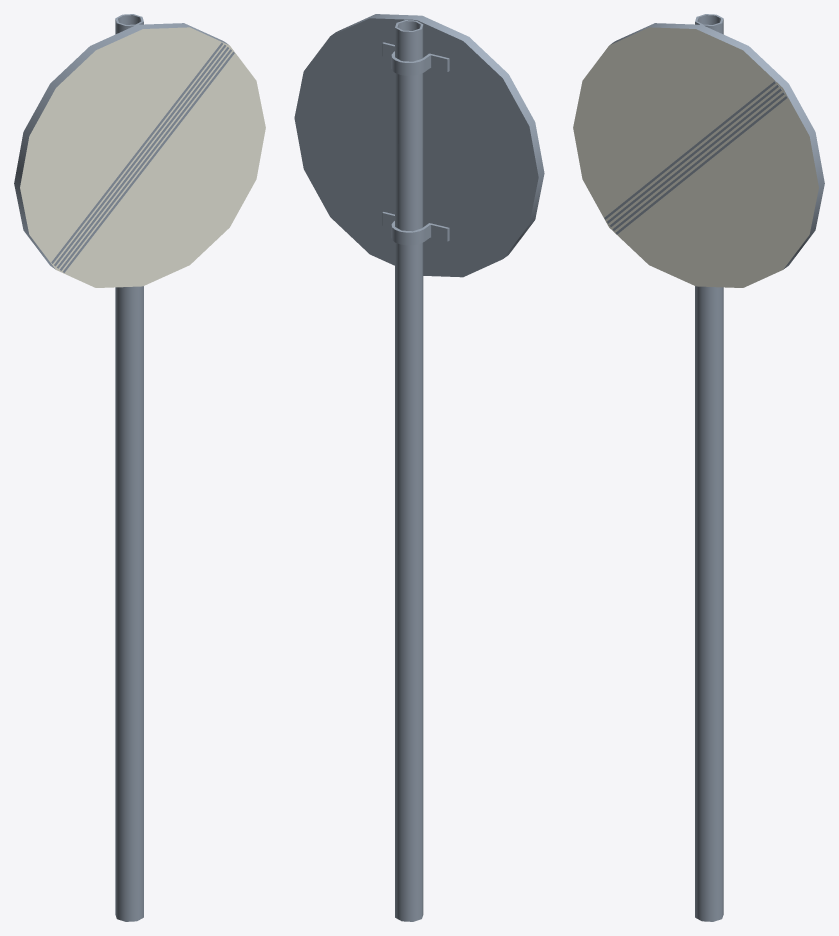
The model's file is konecvsehomejitev.obj.
The picture shows the model from 3 angles, left to right: view 1: azimuth 30°, elevation 25°; view 2: azimuth 150°, elevation 25°; view 3: azimuth 330°, elevation 25°; orthographic projection.
Parts seen in each view (by area): view 1: 2, 1, 17, 13; view 2: 1; view 3: 2, 1, 17.
Boxes of the visible parts, x1=… form: 2: x1=20, y1=27, x2=265, y2=287; 1: x1=14, y1=14, x2=228, y2=921; 17: x1=51, y1=43, x2=234, y2=272; 13: x1=51, y1=42, x2=230, y2=269; 1: x1=294, y1=14, x2=544, y2=921; 2: x1=573, y1=27, x2=818, y2=287; 1: x1=610, y1=14, x2=824, y2=921; 17: x1=604, y1=81, x2=787, y2=234.
Size of the model in its own units: 603 by 2102 by 95.5.
